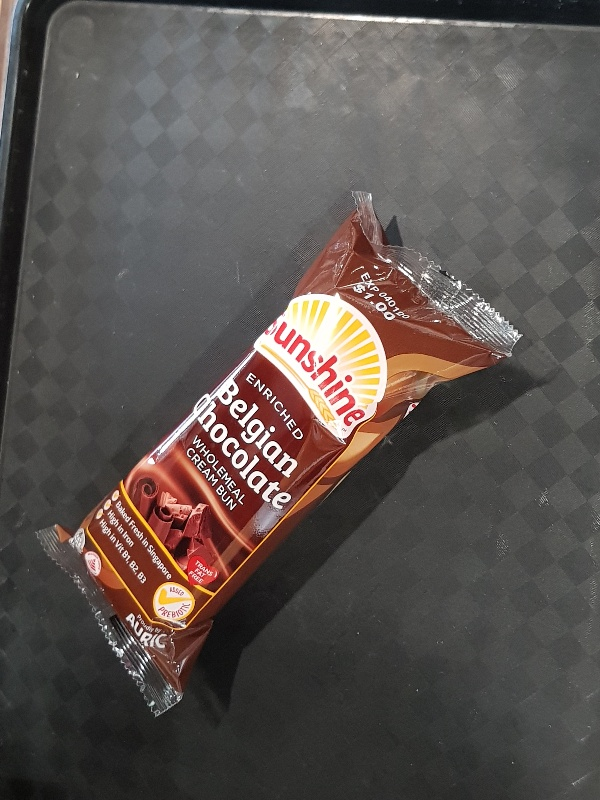Sunshine Belgium Chocolate Wholemeal Cream Bun: (32, 188, 523, 717)
